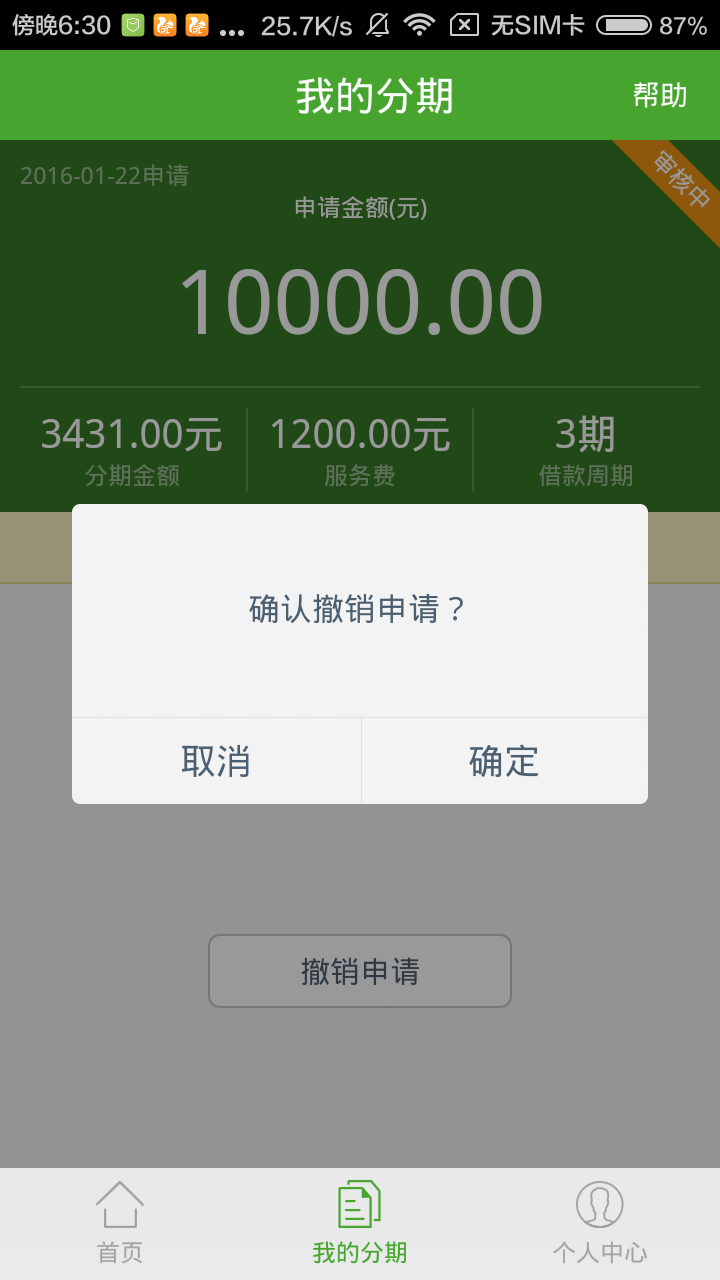alert: (62, 494, 660, 814)
button: (355, 707, 656, 814), (66, 710, 373, 810)
nav: (2, 1163, 720, 1280)
textview: (232, 583, 485, 653)
